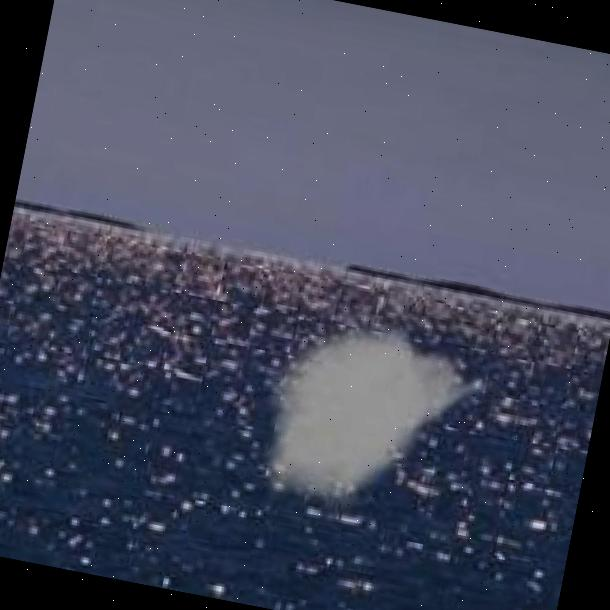smoke: (242, 295, 512, 544)
